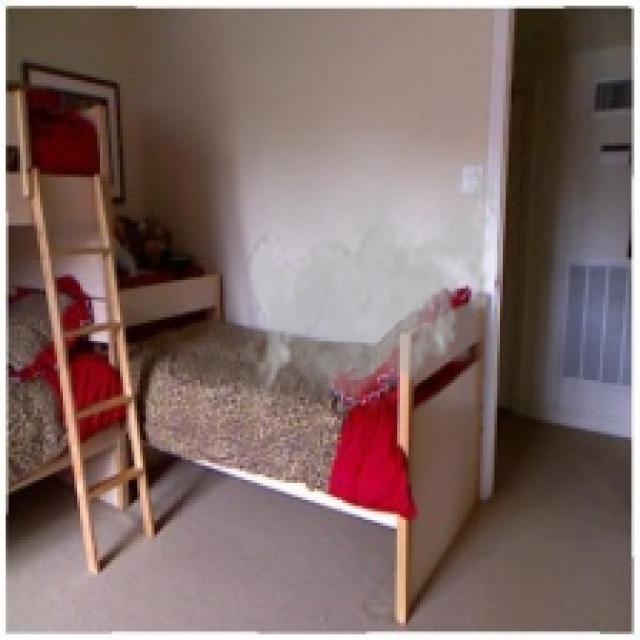Smoke: (240, 134, 506, 414)
